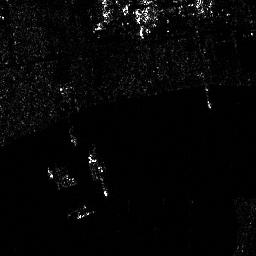ship: (87, 153, 109, 198)
